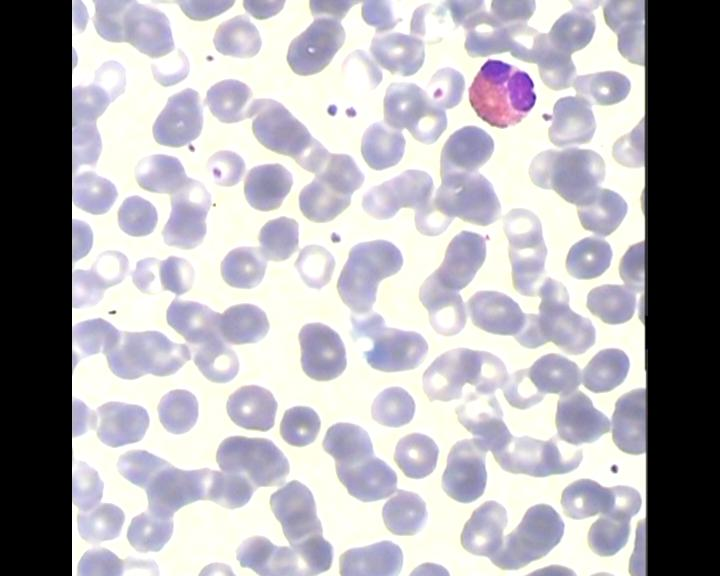eosi: (461, 53, 543, 132)
